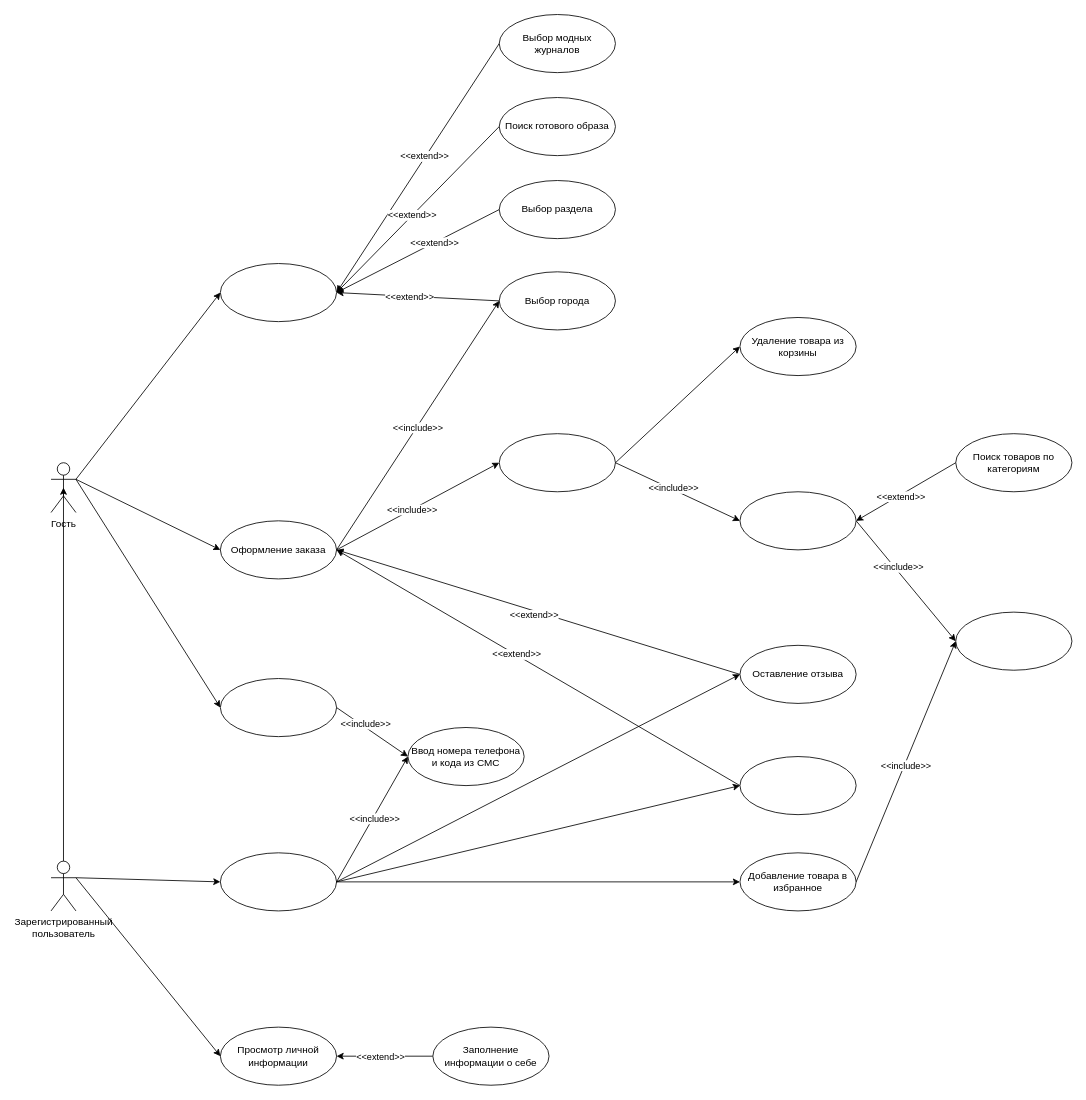
The diagram is 1086 pixels wide and 1100 high, and some of its shapes have lost their labels. Here are the shapes that lost their labels. From the top down, the box of each, then its label:
(220, 263, 337, 322): Просмотр главной страницы
(498, 433, 615, 492): Добавление товара в корзину
(739, 491, 856, 550): Поиск товара или бренда
(955, 611, 1072, 670): Просмотр информации о товаре
(220, 678, 337, 737): Регистрация
(739, 756, 856, 815): Просмотр заказов
(220, 852, 337, 911): Вход в аккаунт
